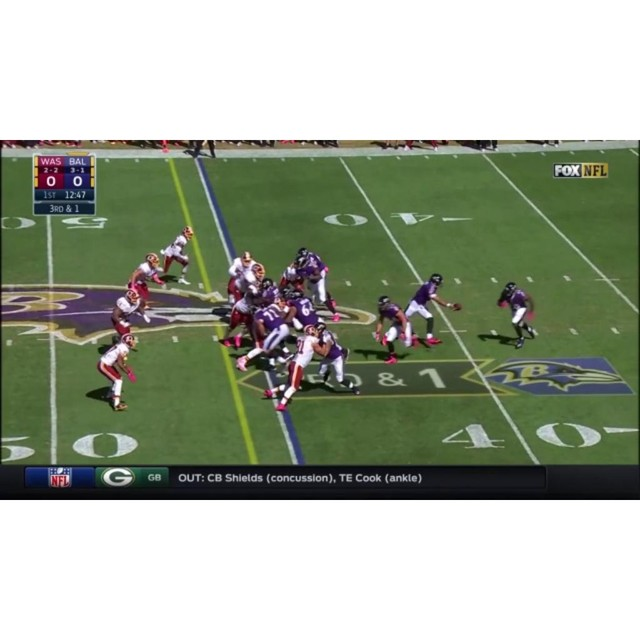american-football-player: (262, 326, 319, 413), (403, 272, 460, 348), (235, 297, 292, 373), (213, 277, 267, 349), (313, 322, 361, 396), (96, 333, 139, 411), (295, 250, 340, 318), (496, 280, 539, 348), (372, 294, 412, 364), (126, 253, 165, 313), (157, 225, 194, 284), (109, 288, 148, 342), (287, 288, 324, 332), (277, 256, 306, 294)
